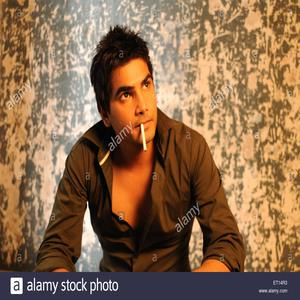cigarette: (140, 123, 148, 152)
